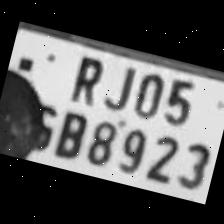0: (125, 63, 168, 119)
2: (139, 126, 184, 187)
3: (170, 132, 216, 192)
5: (156, 70, 200, 126)
8: (79, 113, 120, 169)
9: (111, 119, 151, 176)
B: (50, 104, 90, 161)
J: (98, 56, 138, 112)
R: (64, 48, 110, 108)
